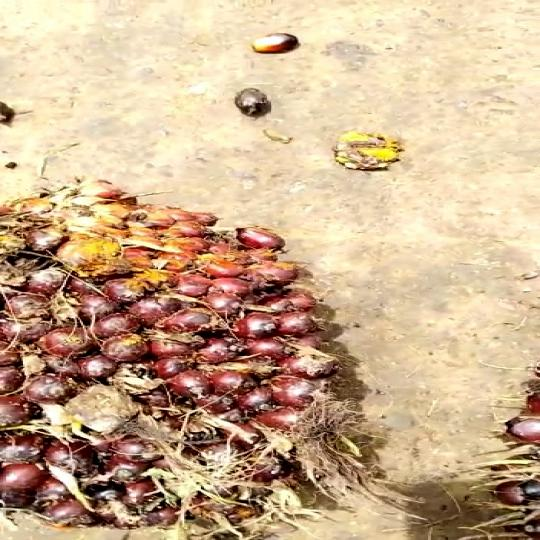kurang masak: (0, 182, 401, 535)
